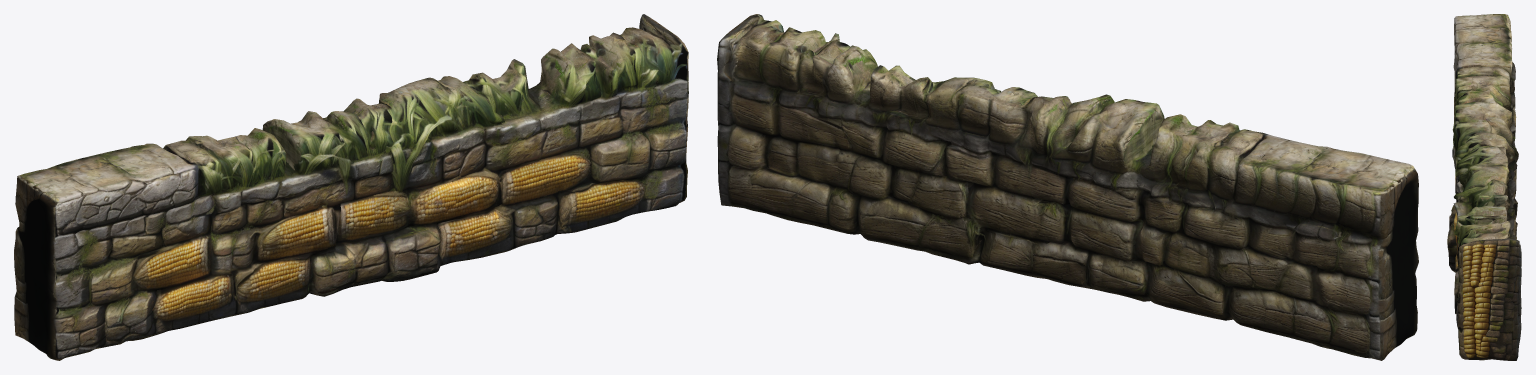
The model's file is cornwall.glb.
3 views of the same model, side by side, from view 1: azimuth 30°, elevation 25°; view 2: azimuth 150°, elevation 25°; view 3: azimuth 270°, elevation 25° (orthographic). The views are drawn at different scales.
Size of the model in its own units: 2 by 0.5 by 0.275.
1 material, 1 textured.
